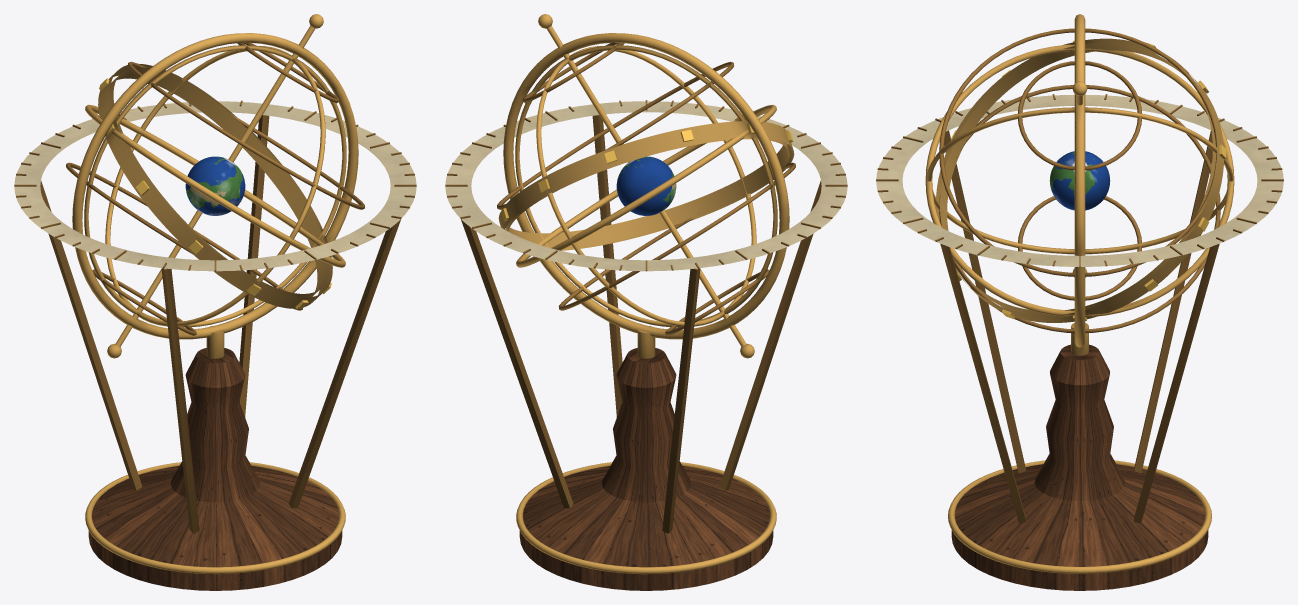
File: sfera-armilarna.glb
3 renders of one model, left to right at view 1: azimuth 30°, elevation 25°; view 2: azimuth 150°, elevation 25°; view 3: azimuth 270°, elevation 25°, orthographic.
Parts seen in each view (by area): view 1: sfera_armilarna, rete, os_swiata; view 2: sfera_armilarna, rete, os_swiata; view 3: sfera_armilarna, rete, os_swiata.
Boxes of the visible parts, x1,y1,x2,y2 form: sfera_armilarna: (14, 33, 416, 590); rete: (66, 42, 364, 335); os_swiata: (107, 14, 323, 358); sfera_armilarna: (445, 33, 847, 590); rete: (497, 42, 795, 335); os_swiata: (538, 14, 754, 358); sfera_armilarna: (876, 14, 1283, 590); rete: (925, 28, 1234, 333); os_swiata: (1049, 81, 1110, 277).
Size of the model in its own units: 0.54 by 0.741 by 0.54.
Materials: 7 (3 with a texture image).
